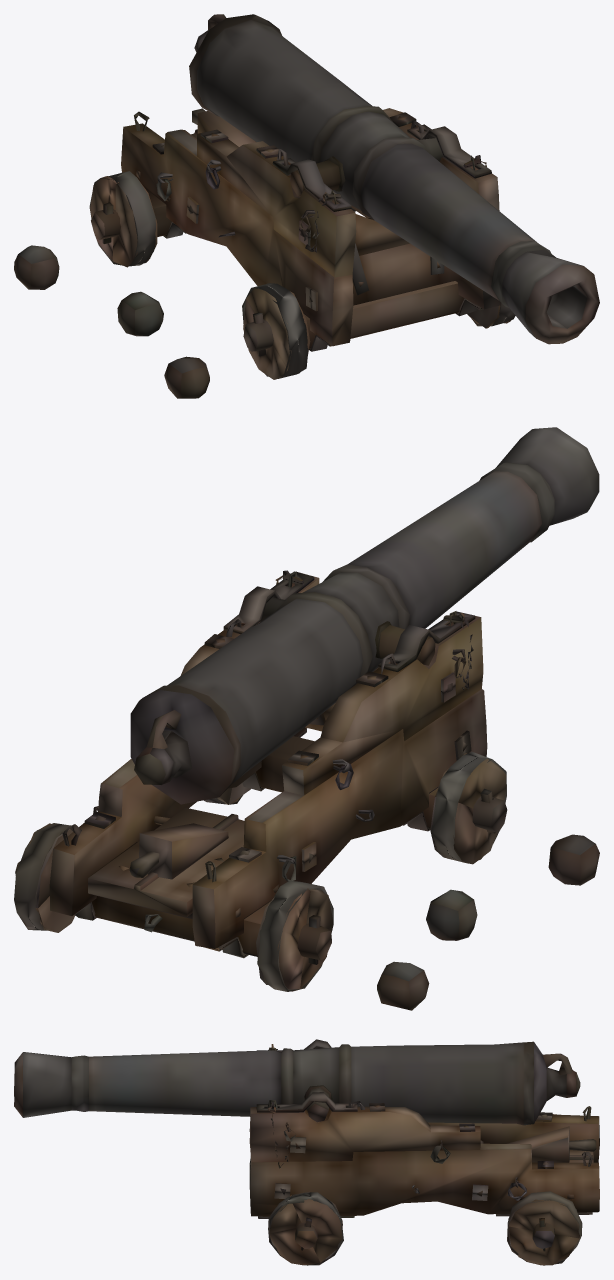
The model's file is design-cannon-01.glb.
The picture shows the model from 3 angles, top to bottom: view 1: azimuth 30°, elevation 25°; view 2: azimuth 150°, elevation 25°; view 3: azimuth 270°, elevation 25°; orthographic projection. The views are drawn at different scales.
Visible parts, largest first — view 1: cannon_01_ball_01; view 2: cannon_01_ball_01; view 3: cannon_01_ball_01.
Boxes of the visible parts, bbox=[...] form: cannon_01_ball_01: bbox=[14, 14, 599, 398]; cannon_01_ball_01: bbox=[14, 427, 599, 1010]; cannon_01_ball_01: bbox=[14, 1039, 599, 1265].
Size of the model in its own units: 1.23 by 0.7683 by 2.3.
1 material, 1 textured.
